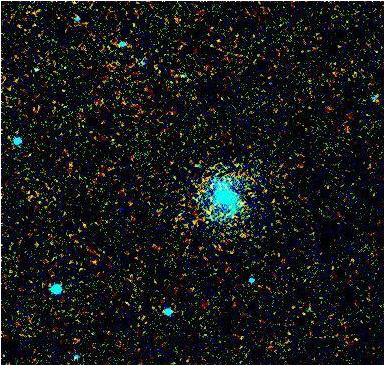star: (227, 185, 257, 215)
